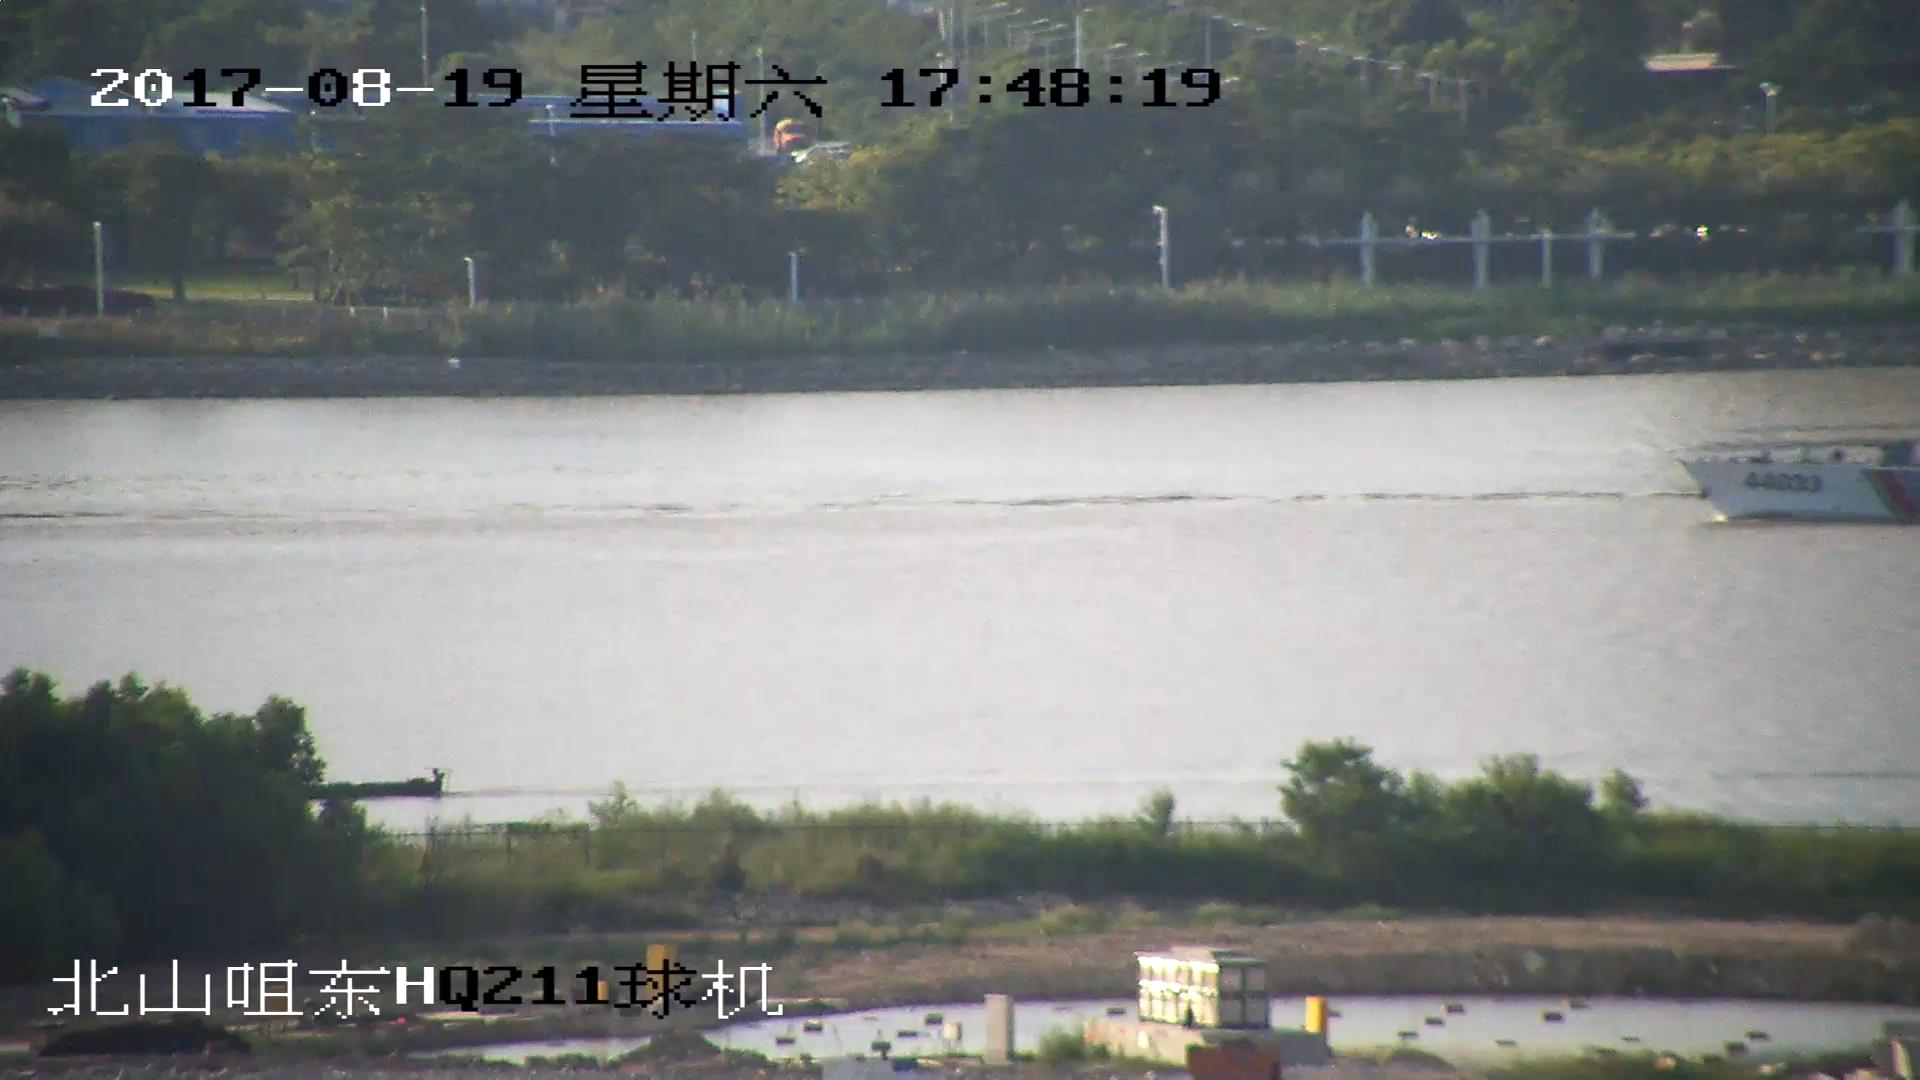passenger ship: (1670, 428, 1920, 523)
